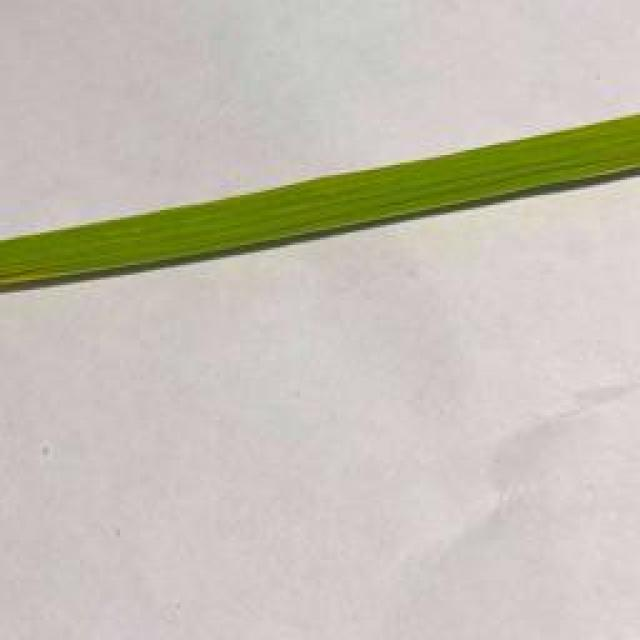Healthy-Plant: (0, 113, 640, 284)
